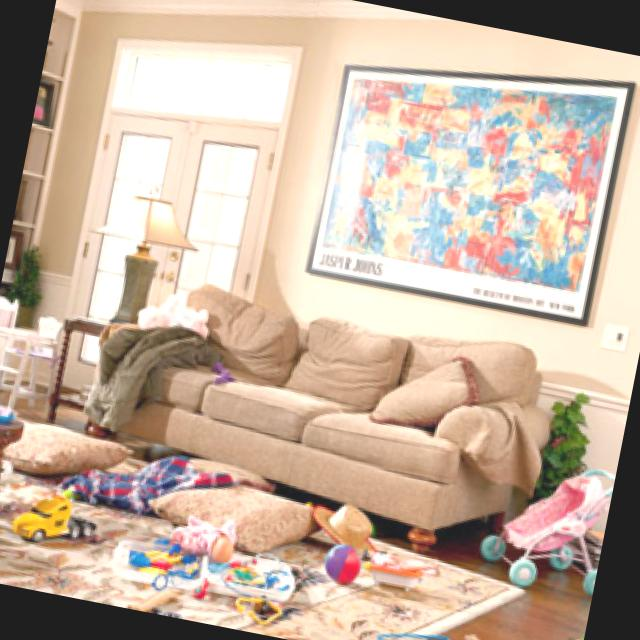mess: (45, 420, 607, 640), (122, 290, 497, 478), (26, 475, 129, 592), (0, 380, 33, 497)
